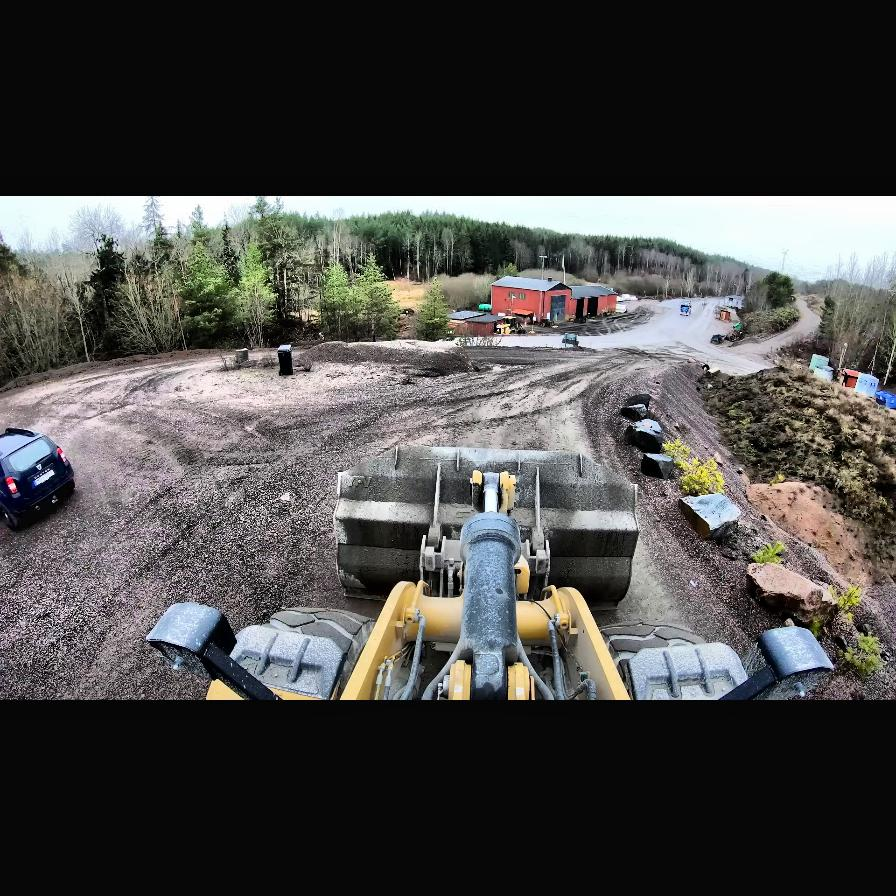anchor: (472, 468, 516, 513)
